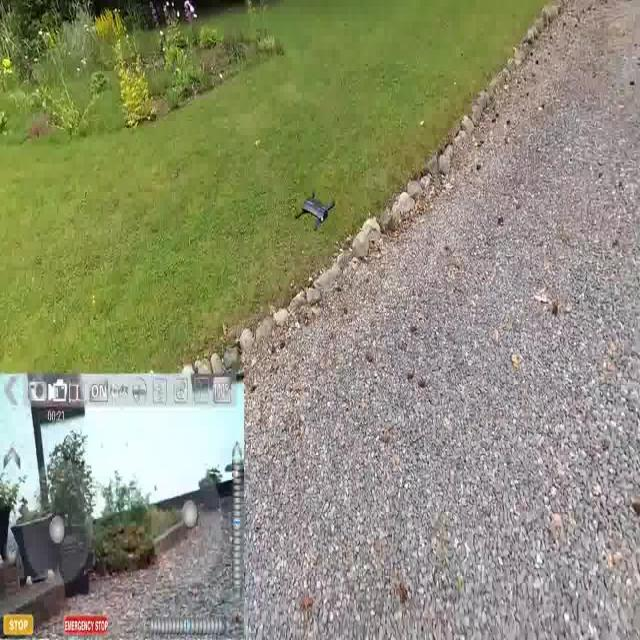Drone_FW: (296, 184, 338, 236)
